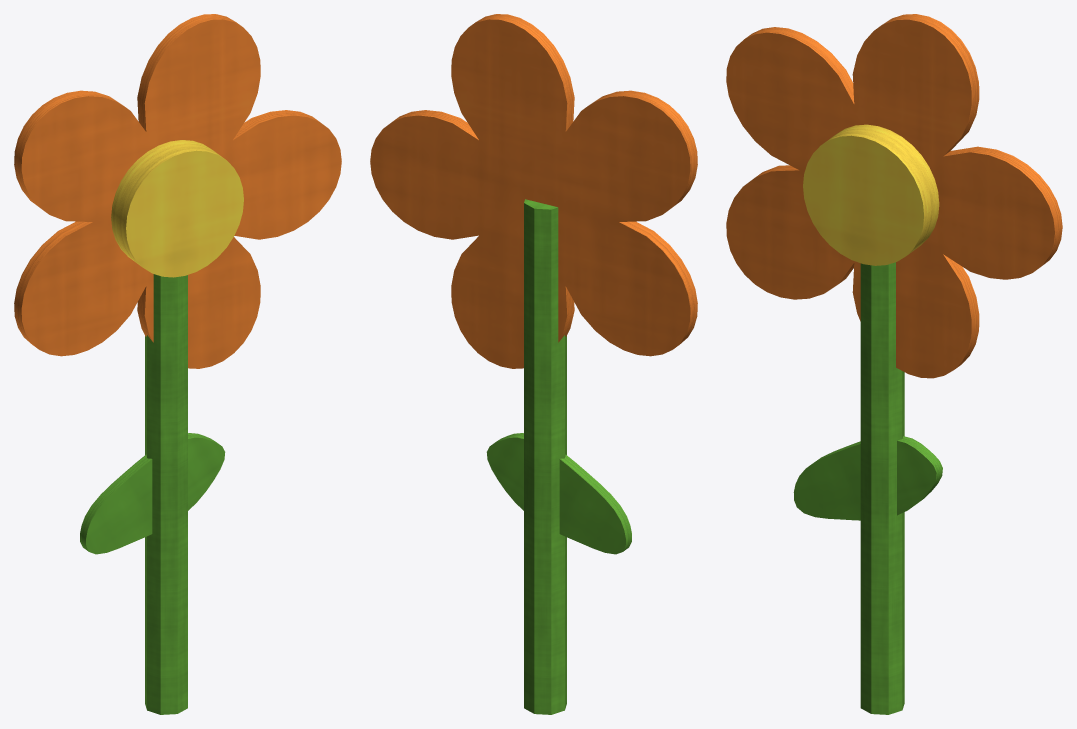
Rendered from flower_orange.gltf.
3 renders of one model, left to right at view 1: azimuth 30°, elevation 25°; view 2: azimuth 150°, elevation 25°; view 3: azimuth 330°, elevation 25°, orthographic. The views are drawn at different scales.
Parts seen in each view (by area): view 1: flower_orange; view 2: flower_orange; view 3: flower_orange.
Part boxes in pixels (left/top/right/bottom): flower_orange: left=14, top=14, right=341, bottom=714; flower_orange: left=370, top=14, right=697, bottom=714; flower_orange: left=726, top=14, right=1062, bottom=714.
Bounding box in the file's own units: 0.2985 × 0.6043 × 0.048.
Materials: 3 (3 with a texture image).
